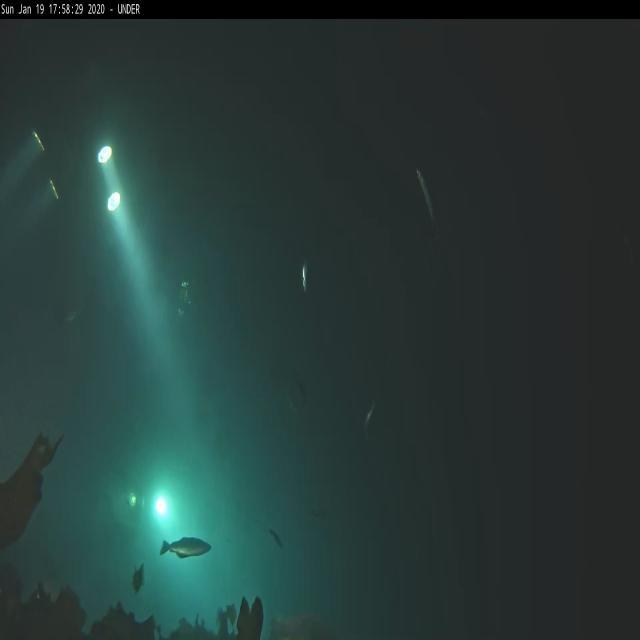fish: (414, 164, 439, 233), (160, 536, 212, 561), (364, 396, 378, 438), (265, 524, 283, 548), (132, 564, 144, 594)
